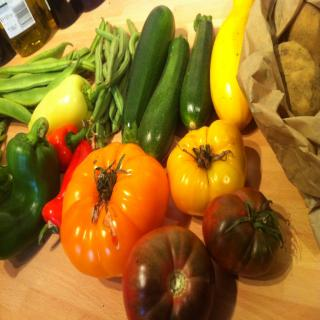tomato: (56, 147, 158, 279), (122, 226, 217, 320), (202, 185, 286, 280), (166, 120, 248, 217)
